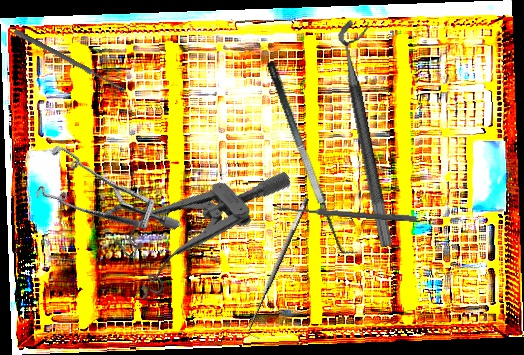Fixation Ring: (334, 16, 413, 248)
Hook Surgical: (241, 196, 321, 340)
Spatula Surgical: (264, 54, 359, 262)
Speculum: (98, 121, 296, 315), (19, 112, 182, 284)
Surgical Spoon: (12, 28, 128, 94), (273, 205, 417, 222)
